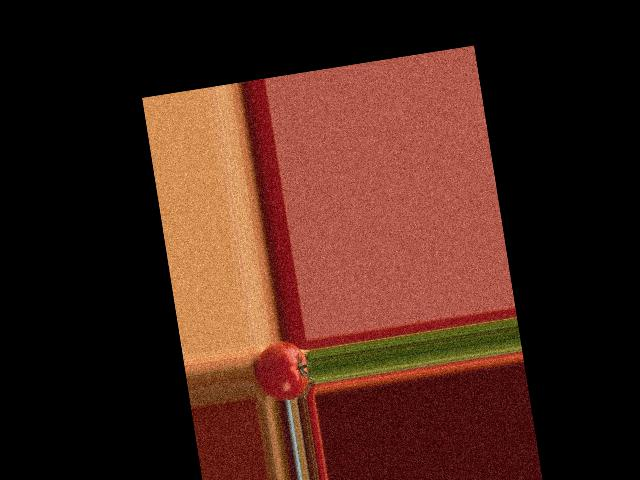tomato: (252, 337, 312, 404)
